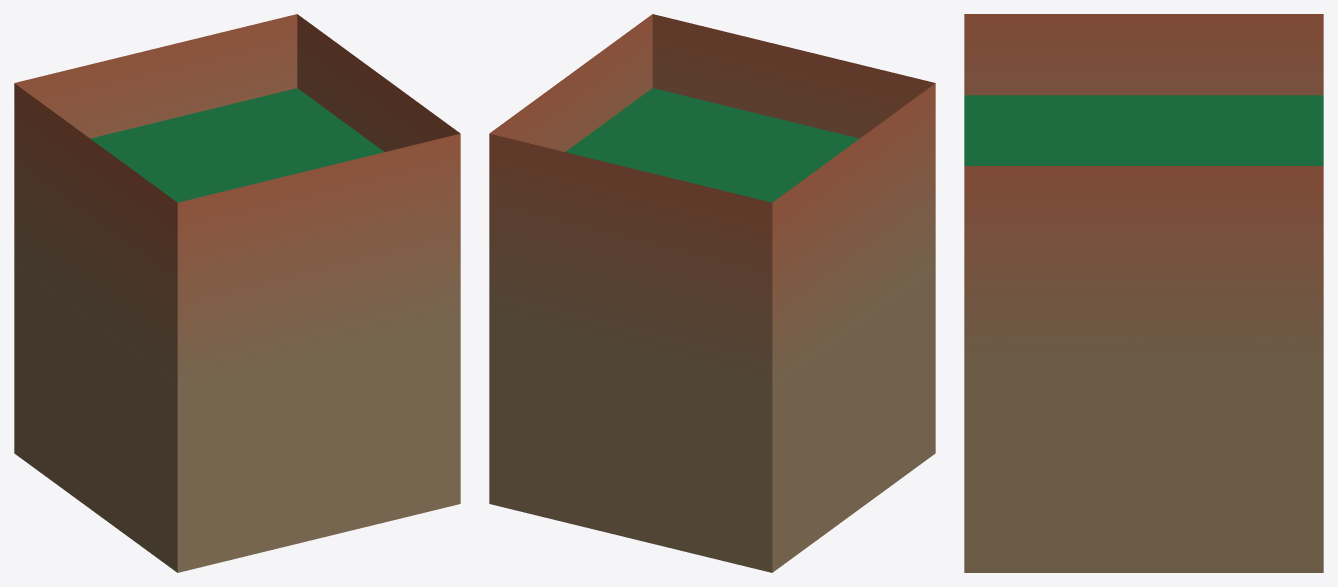
Rendered from cup_green.obj.
3 views of the same model, side by side, from view 1: azimuth 30°, elevation 25°; view 2: azimuth 150°, elevation 25°; view 3: azimuth 270°, elevation 25° (orthographic). The views are drawn at different scales.
Parts seen in each view (by area): view 1: Default; view 2: Default; view 3: Default.
Boxes of the visible parts, x1,y1,x2,y2 form: Default: (14,14,460,572); Default: (489,14,935,572); Default: (964,14,1323,572).
Bounding box in the file's own units: 0.1 × 0.125 × 0.1.
